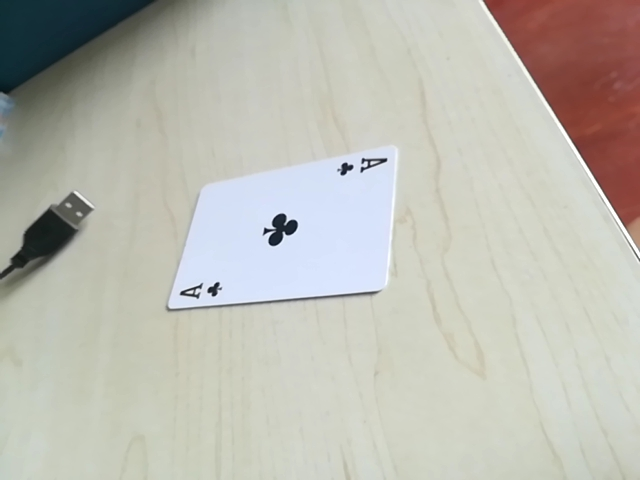mh a: (171, 275, 228, 309), (336, 153, 391, 183)
